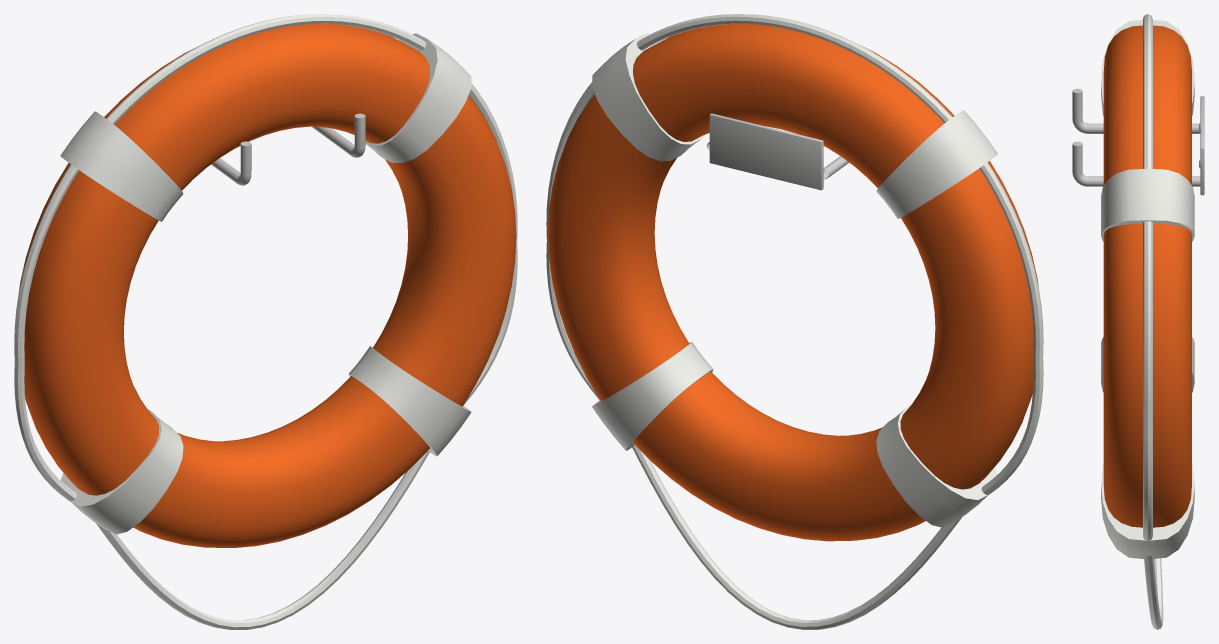
Rendered from Kit_RingBuoy.fbx.
The picture shows the model from 3 angles, left to right: view 1: azimuth 30°, elevation 25°; view 2: azimuth 150°, elevation 25°; view 3: azimuth 270°, elevation 25°; orthographic projection. The views are drawn at different scales.
Visible parts, largest first — view 1: Kit_RingBuoy_LOD0; view 2: Kit_RingBuoy_LOD0; view 3: Kit_RingBuoy_LOD0.
Boxes of the visible parts, left/top/right/bottom form: Kit_RingBuoy_LOD0: left=14, top=14, right=517, bottom=629; Kit_RingBuoy_LOD0: left=546, top=14, right=1043, bottom=629; Kit_RingBuoy_LOD0: left=1072, top=14, right=1204, bottom=629.
Size of what is drawn, in the model's own units: 0.5288 by 0.6138 by 0.127.
